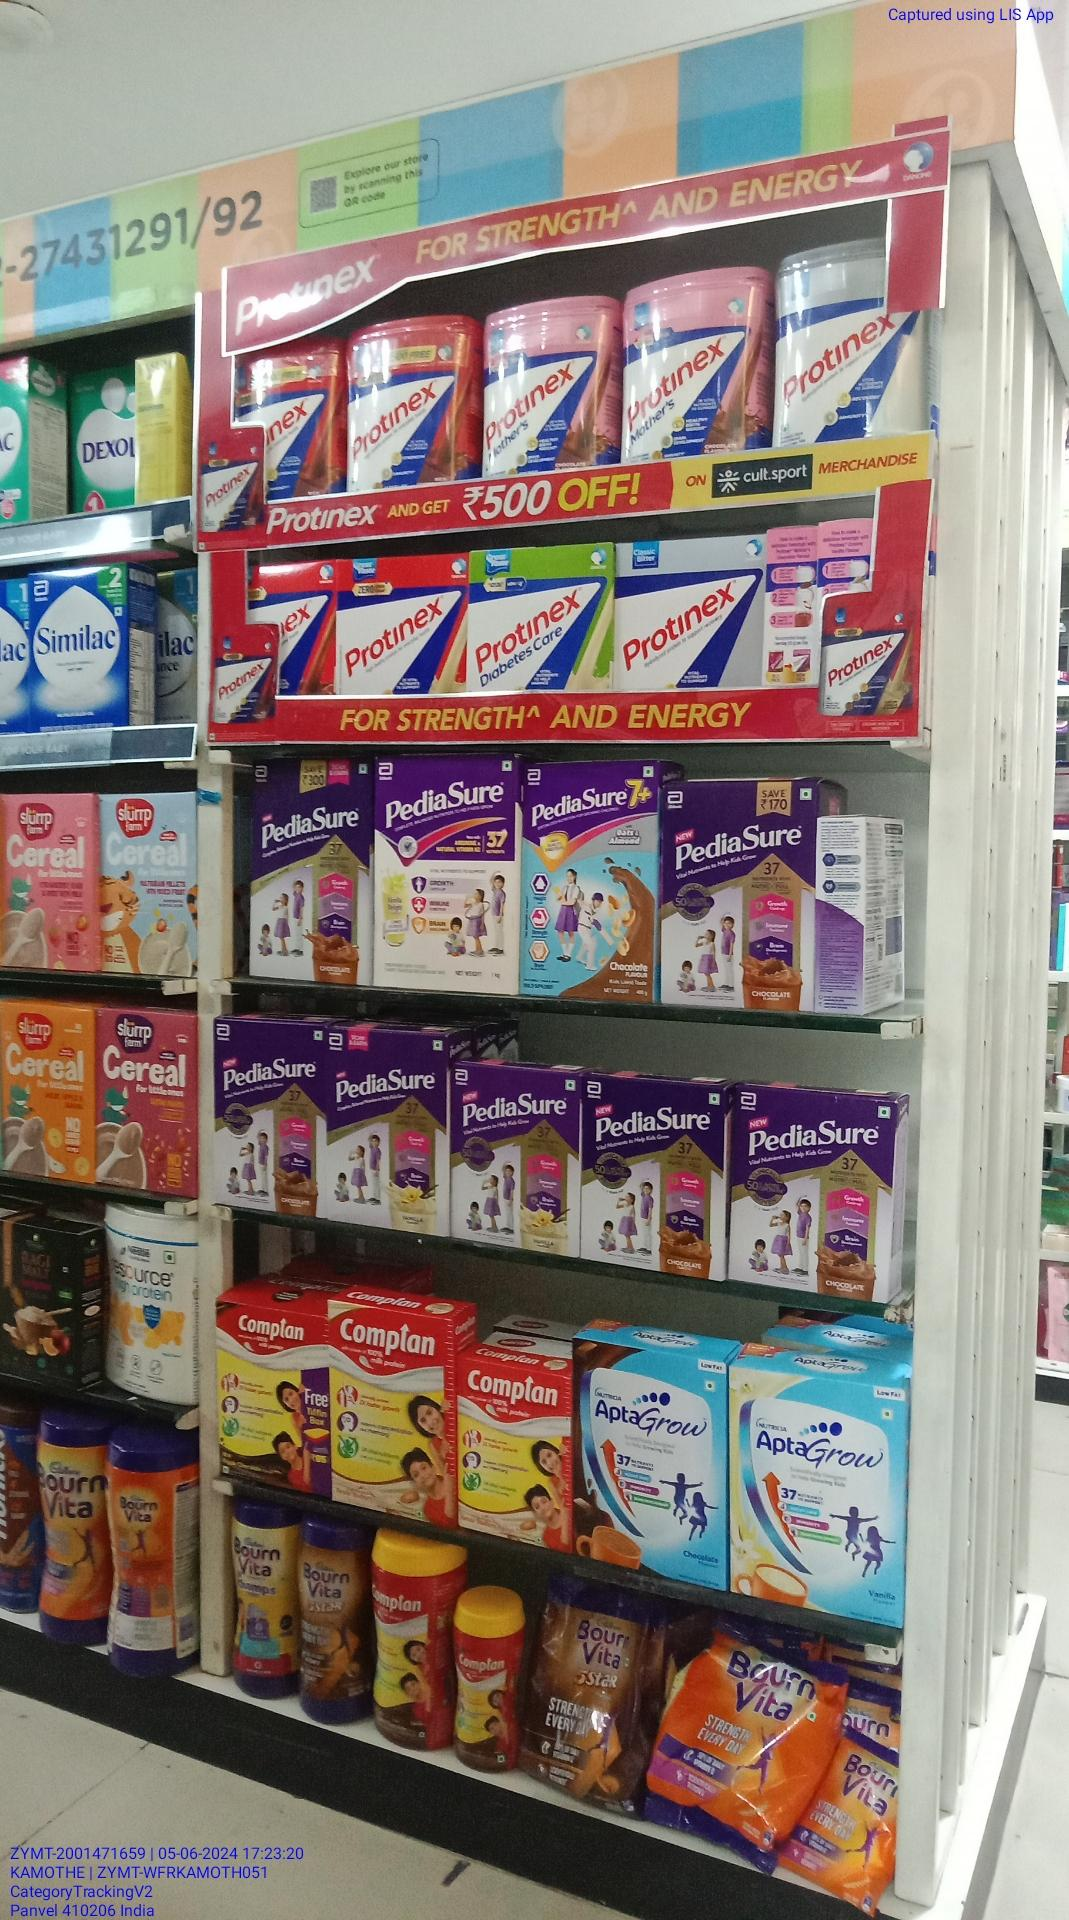BOURN_VITA_1_KG_JAR: (34, 1408, 101, 1642)
BOURN_VITA_CHAMPS_500_G_JAR: (228, 1503, 296, 1700)
BOURN_VITA_FIVE_STAR_MAGIC_500_G_JAR: (301, 1520, 361, 1723)
BOURN_VITA_FIVE_STAR_MAGIC_500_G_POUCH: (532, 1580, 641, 1815)
COMPLAN_CHOCOLATE_200_GMS_JAR: (457, 1590, 517, 1773)
COMPLAN_CHOCOLATE_500_GMS_JAR: (369, 1533, 450, 1745)
COMPLAN_KESAR_BADAM_200_GMS_PACK: (457, 1361, 567, 1549)
PEDIASURE_7_PLUS_CHOCOLATE_400_G_PACK: (520, 763, 656, 1007)
PEDIASURE_CHOCOLATE_500_G_PACK: (662, 786, 812, 1008), (248, 759, 369, 980)
PROTINEX_CHOCOLATE_400_G_JAR: (345, 329, 474, 483)
PROTINEX_ORIGINAL_400_G_JAR: (773, 241, 916, 438)
